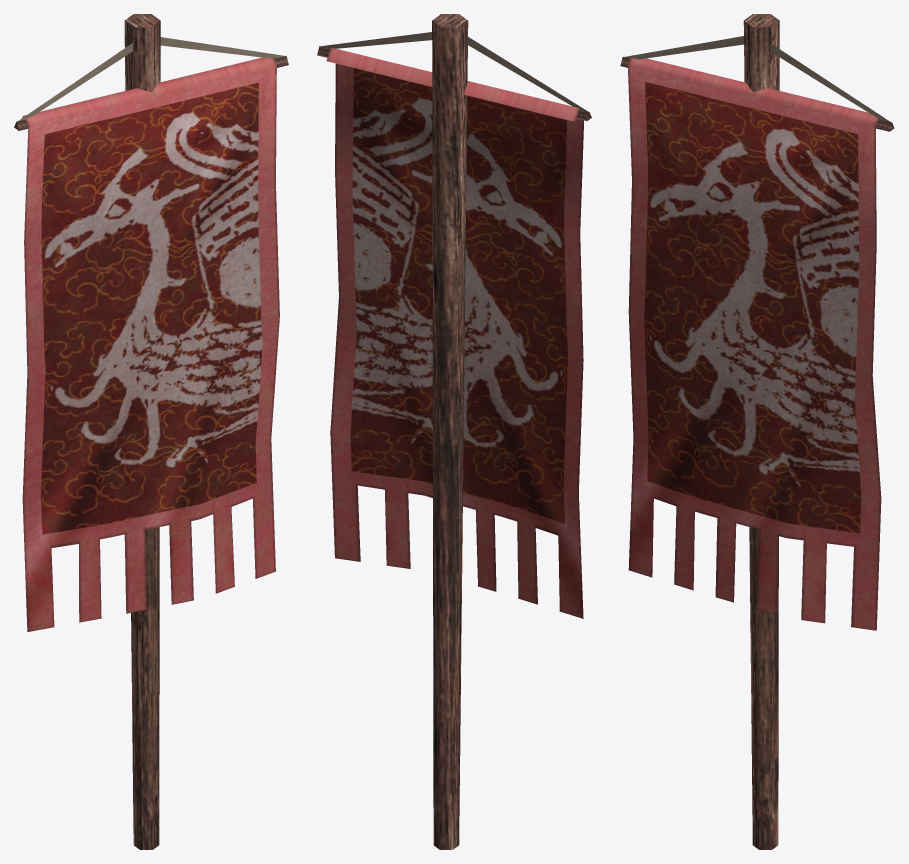
File: flag02.FBX
3 renders of one model, left to right at view 1: azimuth 30°, elevation 25°; view 2: azimuth 150°, elevation 25°; view 3: azimuth 330°, elevation 25°, orthographic.
Visible parts, largest first — view 1: Sphere01:140; view 2: Sphere01:140; view 3: Sphere01:140.
Part boxes in pixels (x1,y1,x2,y2): Sphere01:140: (14, 14, 288, 849); Sphere01:140: (317, 14, 591, 849); Sphere01:140: (620, 14, 894, 849).
Bounding box in the file's own units: 12.65 × 36.94 × 2.21.
